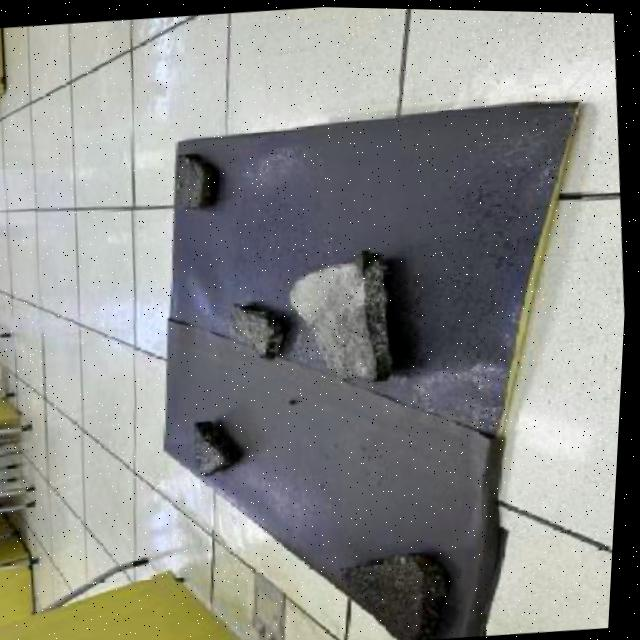Road Debris: (316, 302, 379, 383), (346, 551, 434, 605), (232, 302, 278, 357), (178, 152, 207, 209), (196, 428, 228, 476)
